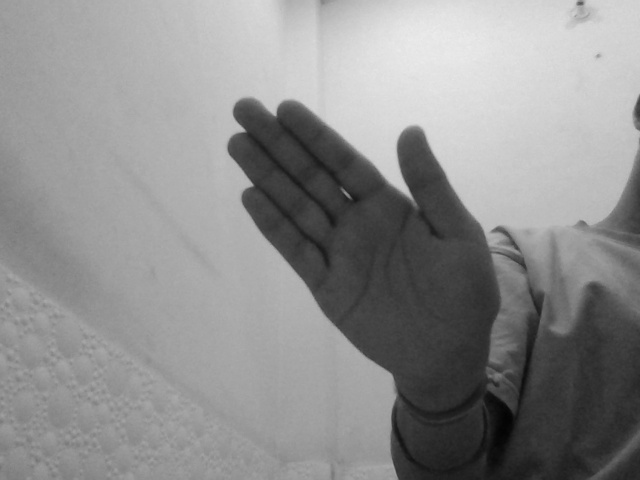Hello: (225, 94, 503, 393)
